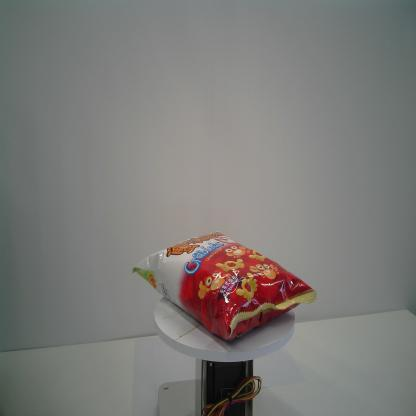Puffed Food: (129, 230, 318, 344)
